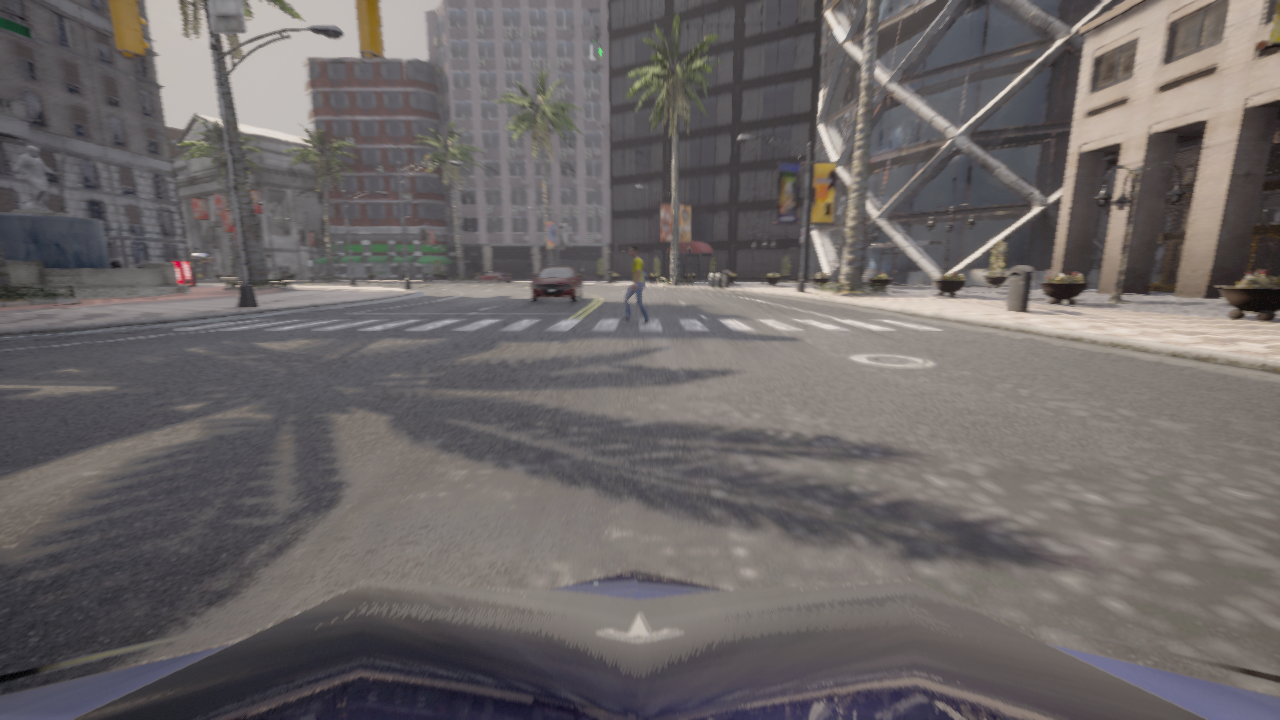cyclist: (0, 569, 1279, 719), (531, 266, 582, 302), (476, 271, 512, 283)
pedestrian: (620, 246, 650, 324)
